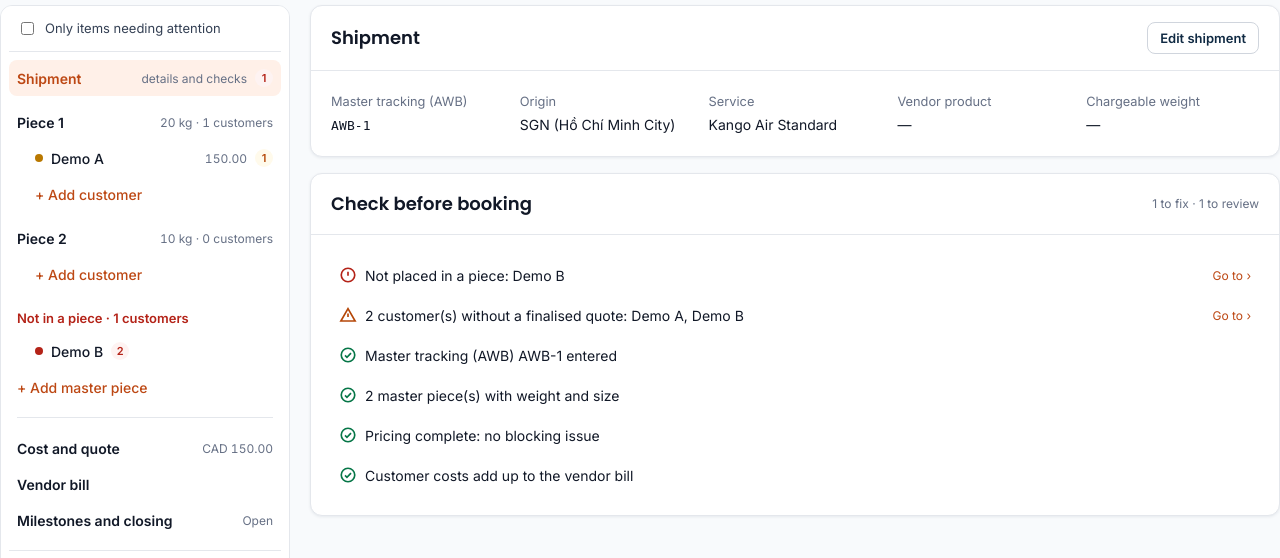
the workspace page (two panes, DEC-0277) › marks a customer not placed in a piece and offers the piece
Click the text "Not placed in a piece: Demo B" at (465, 275), box [365, 264, 565, 286]
(page scrolled)
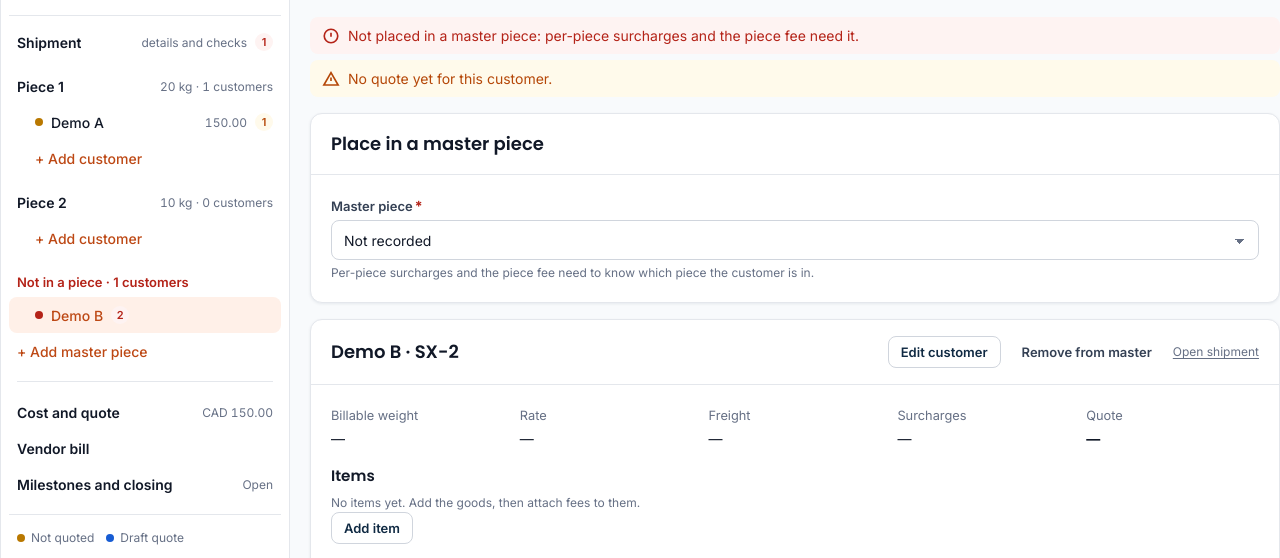
Now the heading "Place in a master piece" is shown, box [331, 130, 544, 158]
Now the dropdown labelled "Master piece" is shown, box [331, 220, 1259, 260]
